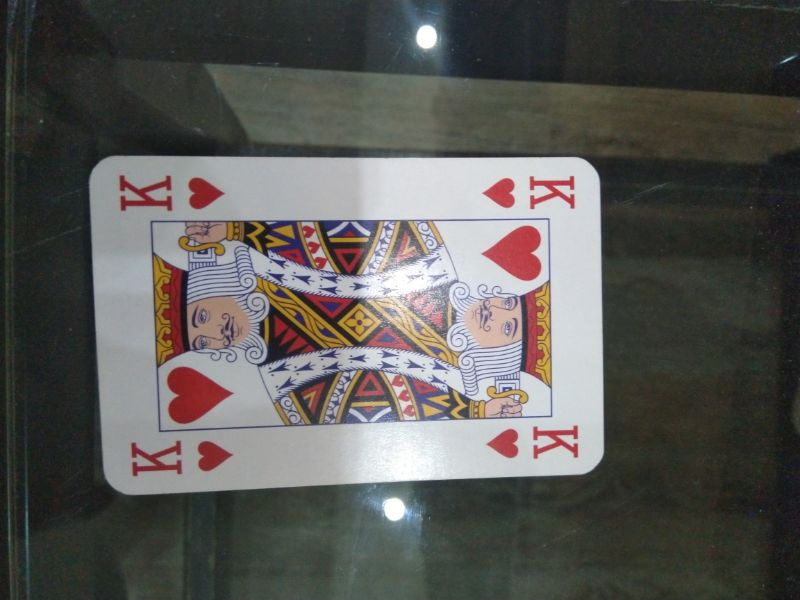Kh: (114, 167, 231, 218), (480, 164, 583, 217), (125, 435, 238, 482), (482, 422, 584, 466)
